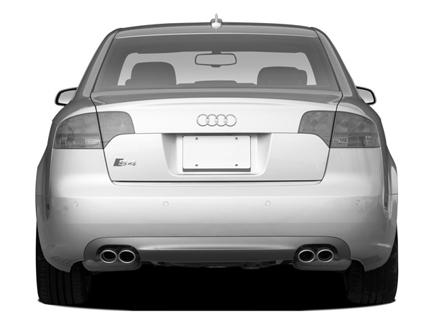car: (36, 13, 400, 307)
